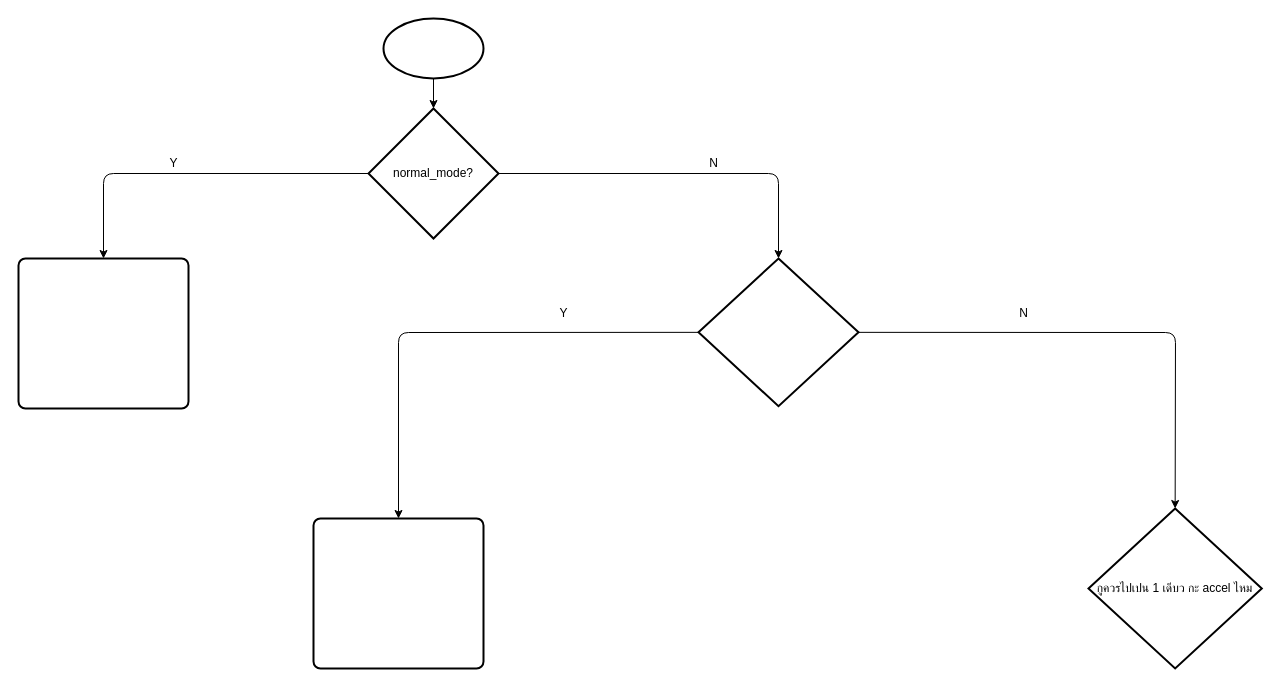
This 1280x686 diagram has some shape labels left out. Here are the shapes that lost their labels. From the top down, the box of each, then its label:
(382, 17, 484, 79): Start
(697, 257, 859, 407): accel_mode?
